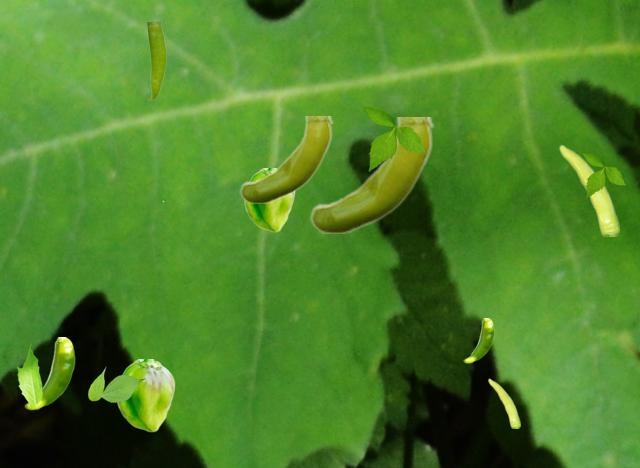green_chili: (309, 117, 433, 232), (239, 116, 332, 202), (559, 144, 618, 235), (116, 359, 174, 431), (24, 337, 74, 409), (244, 168, 294, 231), (488, 378, 519, 427), (146, 22, 165, 99), (463, 318, 493, 362)
